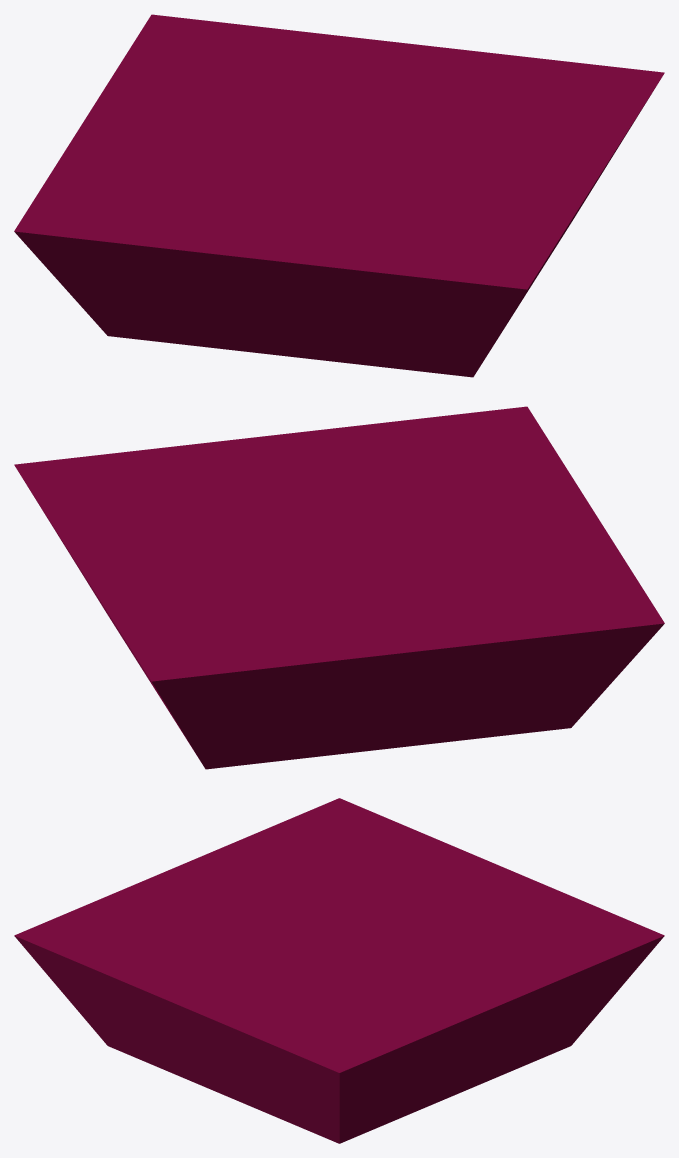
File: seed-midtop.fbx
3 views of the same model, one above another, from view 1: azimuth 30°, elevation 25°; view 2: azimuth 150°, elevation 25°; view 3: azimuth 270°, elevation 25° (orthographic). The views are drawn at different scales.
Parts seen in each view (by area): view 1: pPyramid2; view 2: pPyramid2; view 3: pPyramid2.
Part boxes in pixels (x1,y1,x2,y2): pPyramid2: (14,14,664,377); pPyramid2: (14,406,664,769); pPyramid2: (14,798,664,1143).
Size of the model in its own units: 14.14 by 2.65 by 14.14.
